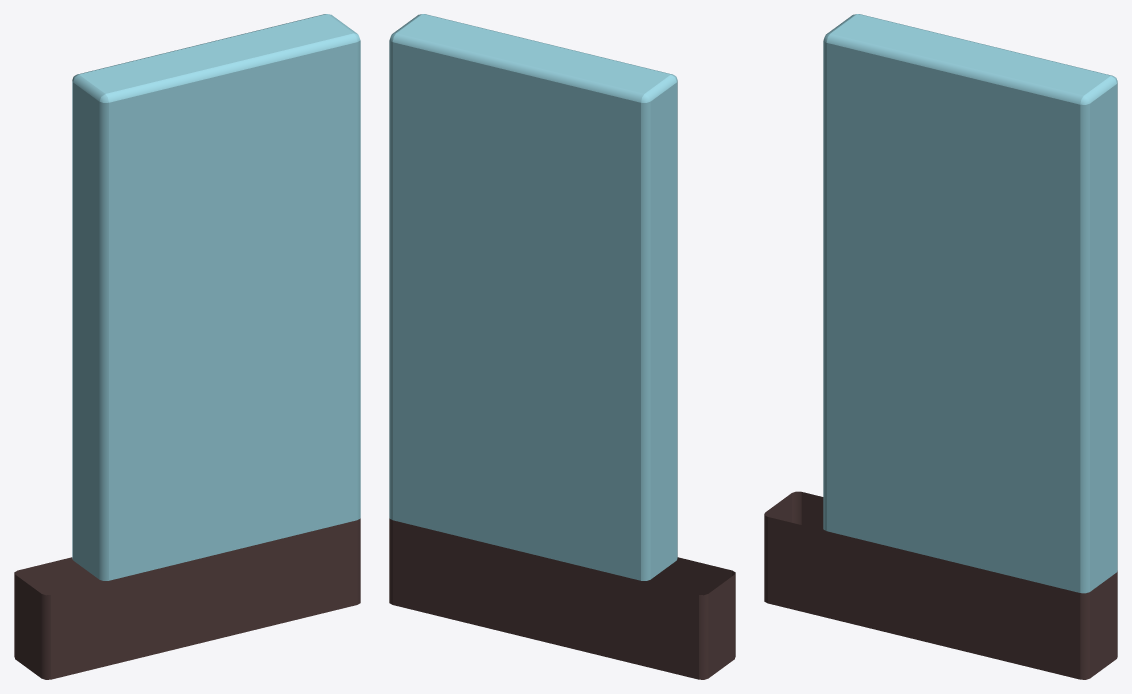
The model's file is DividerMiddlePieceGLASSBlockout_RB.fbx.
3 renders of one model, left to right at view 1: azimuth 30°, elevation 25°; view 2: azimuth 150°, elevation 25°; view 3: azimuth 330°, elevation 25°, orthographic. The views are drawn at different scales.
Parts seen in each view (by area): view 1: DividerMiddlePieceGLASSBlockout_RB, DividerMiddlePieceWOOD; view 2: DividerMiddlePieceGLASSBlockout_RB, DividerMiddlePieceWOOD; view 3: DividerMiddlePieceGLASSBlockout_RB, DividerMiddlePieceWOOD.
Part boxes in pixels (x1=…): DividerMiddlePieceGLASSBlockout_RB: x1=72, y1=14, x2=360, y2=580; DividerMiddlePieceWOOD: x1=14, y1=518, x2=360, y2=679; DividerMiddlePieceGLASSBlockout_RB: x1=389, y1=14, x2=677, y2=580; DividerMiddlePieceWOOD: x1=389, y1=518, x2=735, y2=679; DividerMiddlePieceGLASSBlockout_RB: x1=823, y1=14, x2=1117, y2=593; DividerMiddlePieceWOOD: x1=764, y1=491, x2=1117, y2=679.
Size of the model in its own units: 220 by 376 by 40.
